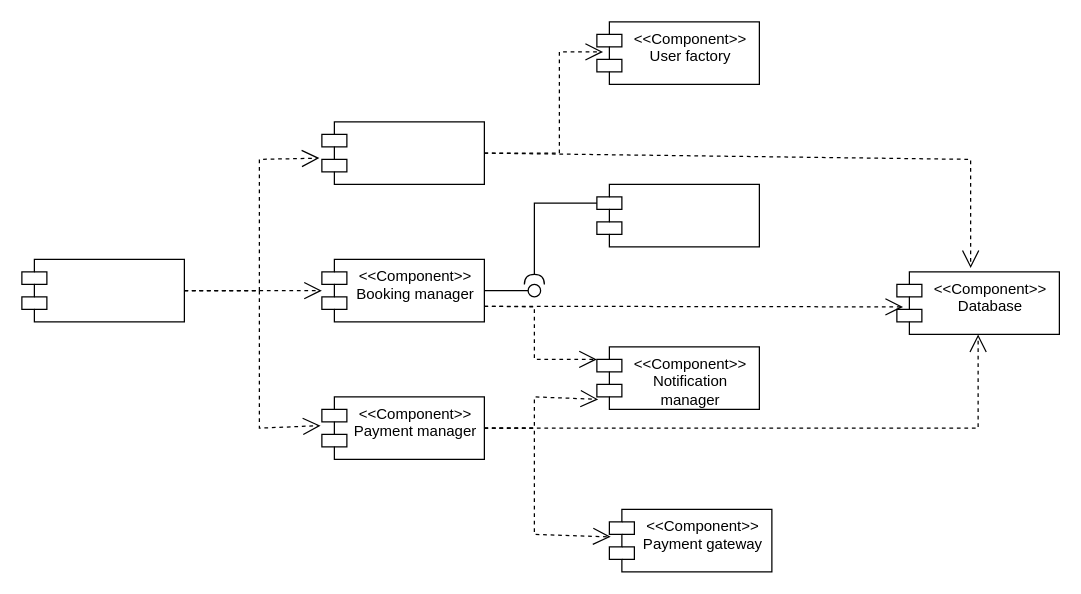
Some shapes in this 1081 by 594 pixel diagram are drawn without their labels. Each missing label, with the centre of its shape:
<<Component>> Authentication manager: point (402, 152)
<<Component>> UI: point (102, 290)
Booking strategy: point (677, 215)
